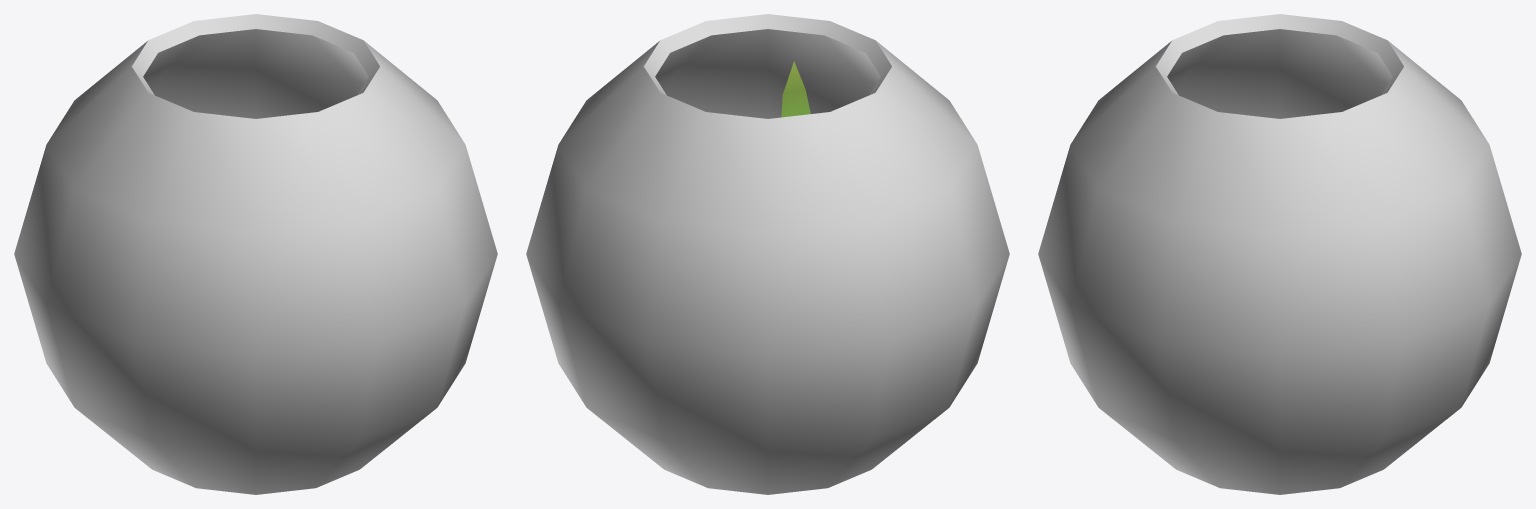
File: Fish_tank.FBX
3 views of the same model, side by side, from view 1: azimuth 30°, elevation 25°; view 2: azimuth 150°, elevation 25°; view 3: azimuth 270°, elevation 25° (orthographic).
Visible parts, largest first — view 1: Pecera; view 2: Pecera; view 3: Pecera.
Part boxes in pixels (x1,y1,x2,y2): Pecera: (14, 14, 497, 494); Pecera: (526, 14, 1009, 494); Pecera: (1038, 14, 1521, 494).
Bounding box in the file's own units: 14.65 × 12.63 × 14.65.
